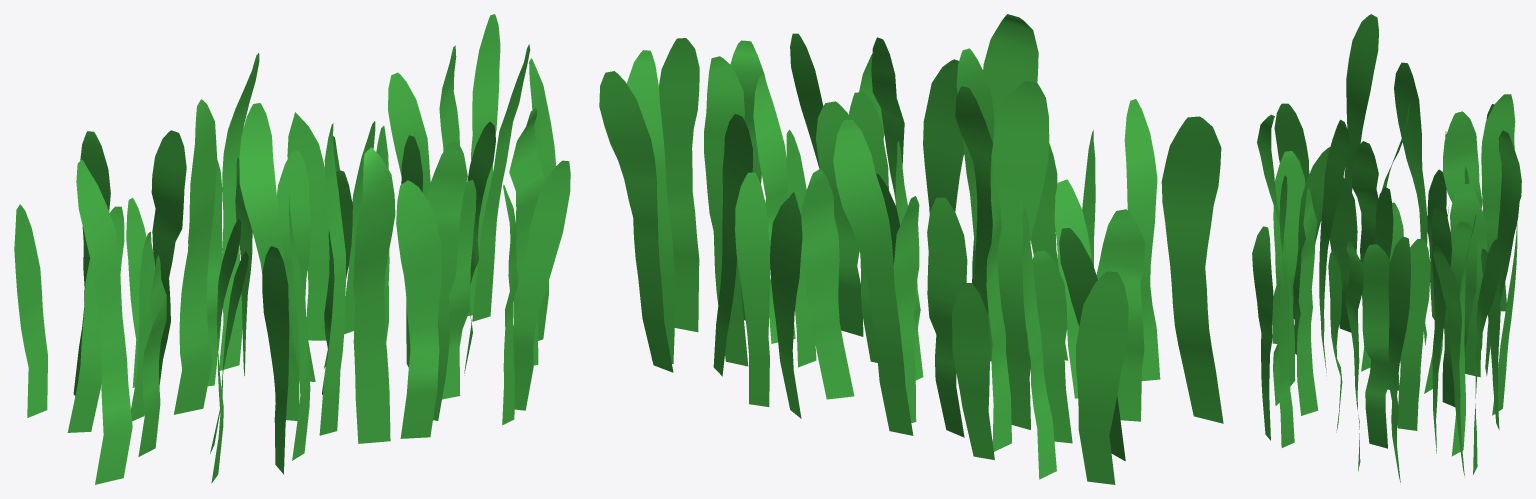
File: coral_seagrass_C_round_dense.fbx
3 renders of one model, left to right at view 1: azimuth 30°, elevation 25°; view 2: azimuth 150°, elevation 25°; view 3: azimuth 270°, elevation 25°, orthographic. The views are drawn at different scales.
Parts seen in each view (by area): view 1: coral_seagrass_C_round_dense; view 2: coral_seagrass_C_round_dense; view 3: coral_seagrass_C_round_dense.
Boxes of the visible parts, x1,y1,x2,y2 form: coral_seagrass_C_round_dense: (14, 14, 570, 484); coral_seagrass_C_round_dense: (599, 14, 1223, 484); coral_seagrass_C_round_dense: (1252, 14, 1521, 482).
Size of the model in its own units: 154 by 92.67 by 81.45.
